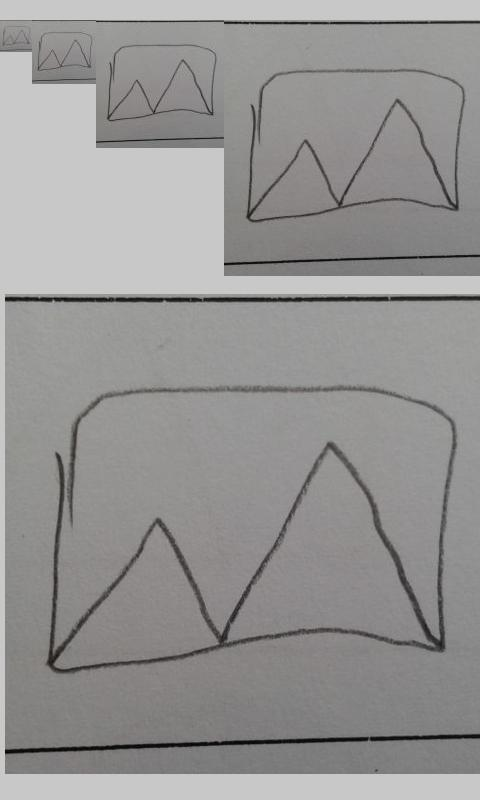image_view: (44, 383, 457, 675), (244, 64, 468, 223), (107, 43, 217, 122), (37, 31, 92, 72), (2, 25, 31, 45)
